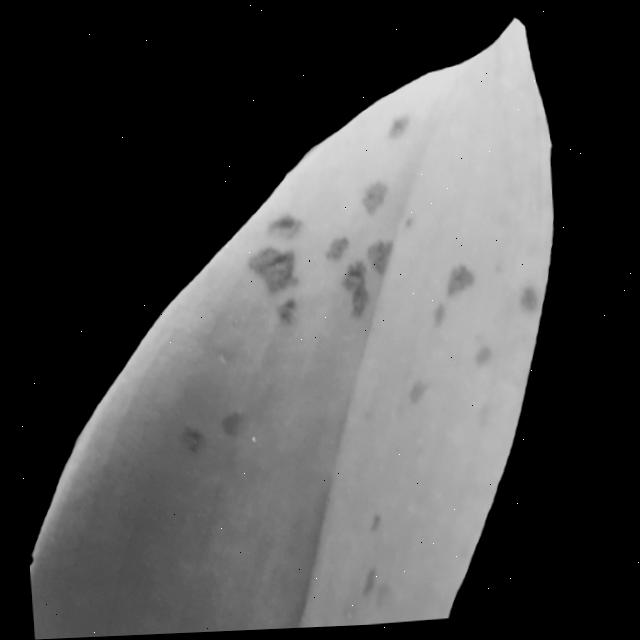mite: (151, 178, 413, 467), (239, 179, 404, 333), (143, 379, 283, 493), (171, 406, 255, 460), (338, 261, 370, 320), (272, 297, 298, 329)
sunburn: (172, 422, 206, 461), (214, 409, 244, 443)
